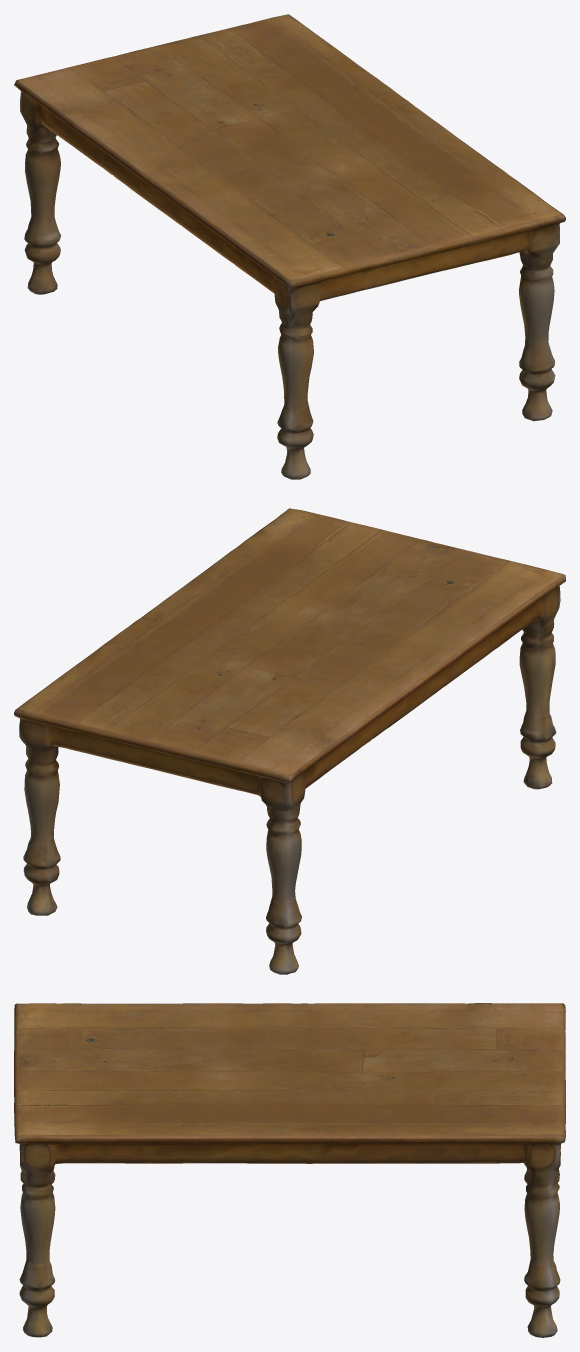
File: Meshy_AI_Rustic_Farmhouse_Tabl_0318193457_texture.glb
The picture shows the model from 3 angles, top to bottom: view 1: azimuth 30°, elevation 25°; view 2: azimuth 150°, elevation 25°; view 3: azimuth 270°, elevation 25°; orthographic projection.
Bounding box in the file's own units: 1.16 × 0.8258 × 2.01.
Materials: 1 (1 with a texture image).
